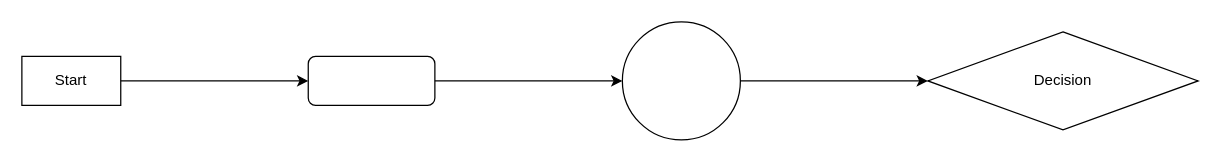
This 1220x163 diagram has some shape labels left out. The shapes that lost their labels are listed below. From the top down, each one's box as (x1, y1, x2, y2) in pixels, then its label:
(307, 55, 435, 105): Process
(621, 21, 740, 140): Event
